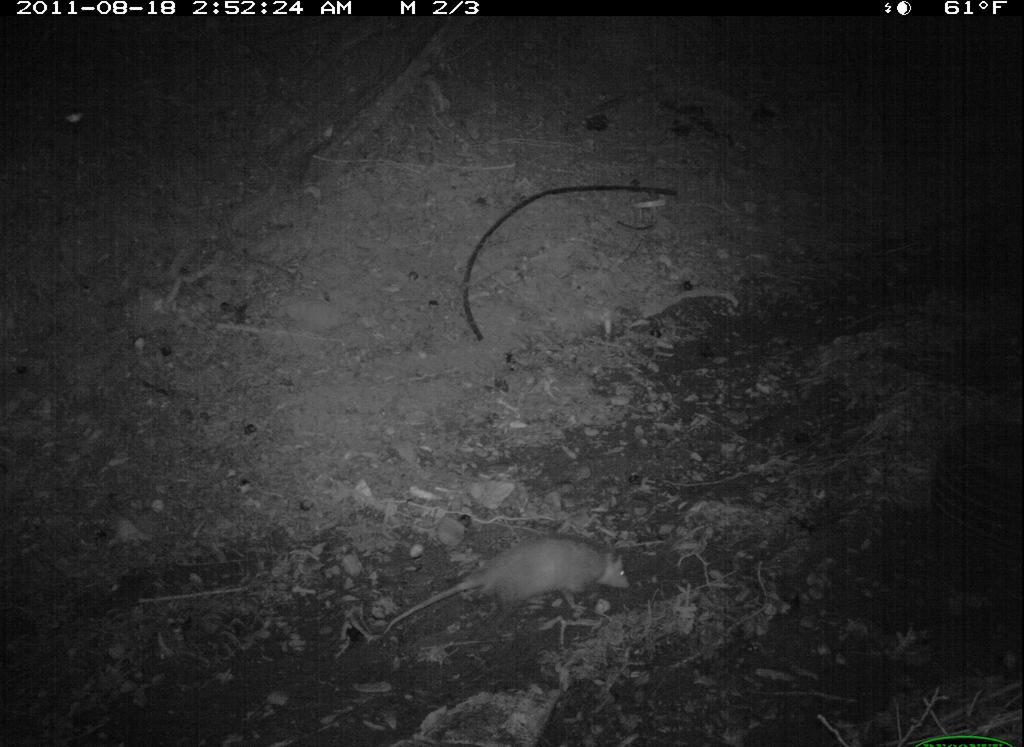opossum: (373, 519, 644, 652)
